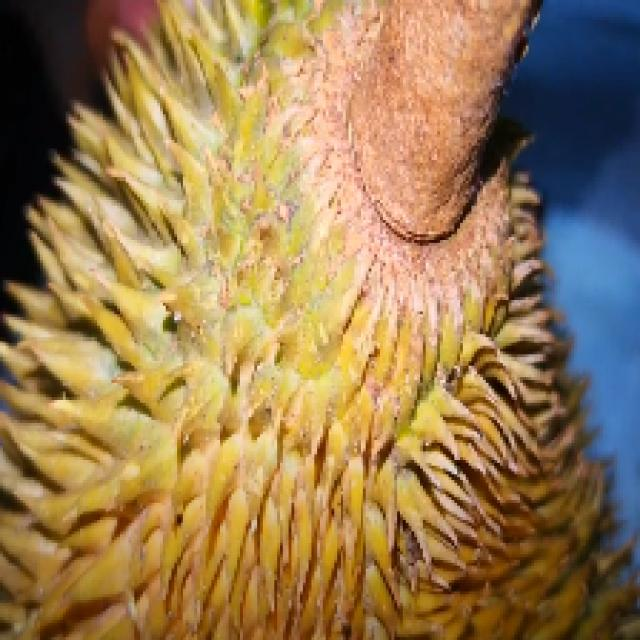d24: (51, 23, 612, 640)
